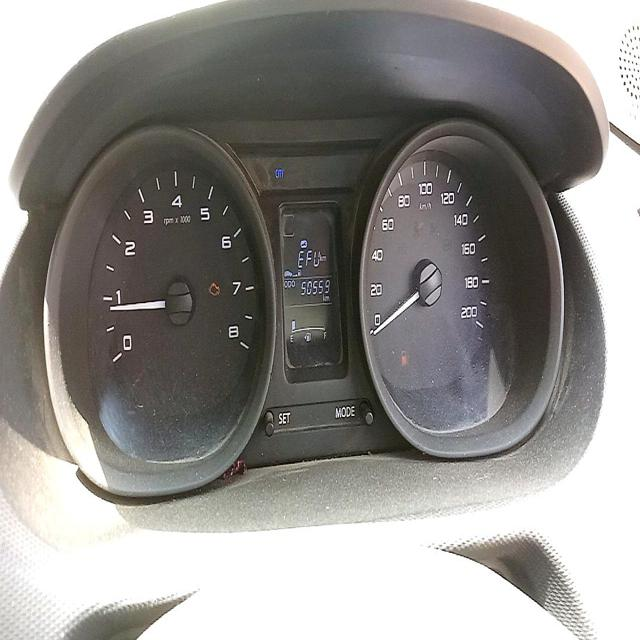odometer: (299, 275, 331, 298)
